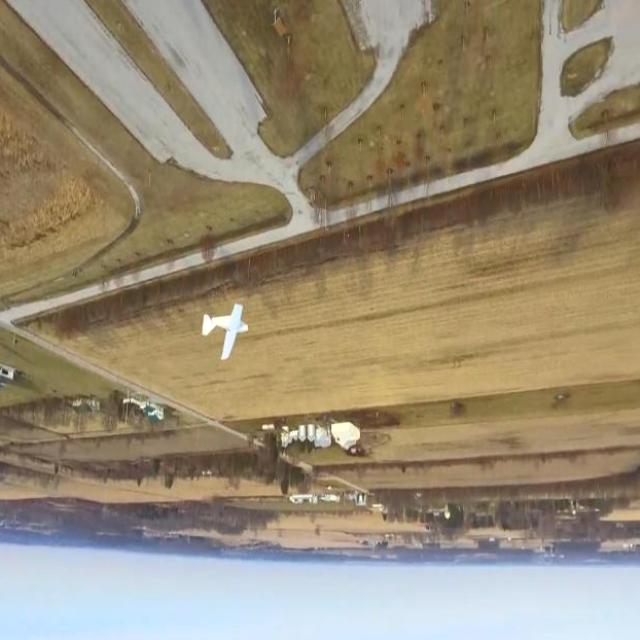plane: (200, 304, 250, 362)
